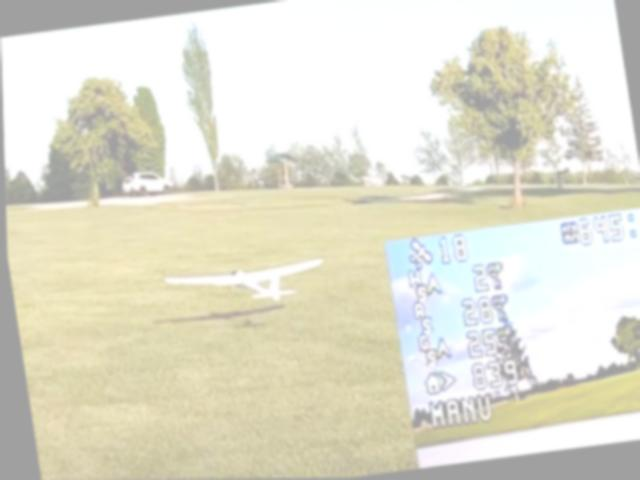iha: (161, 248, 330, 318)
